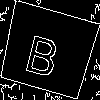B: (22, 25, 64, 79)
